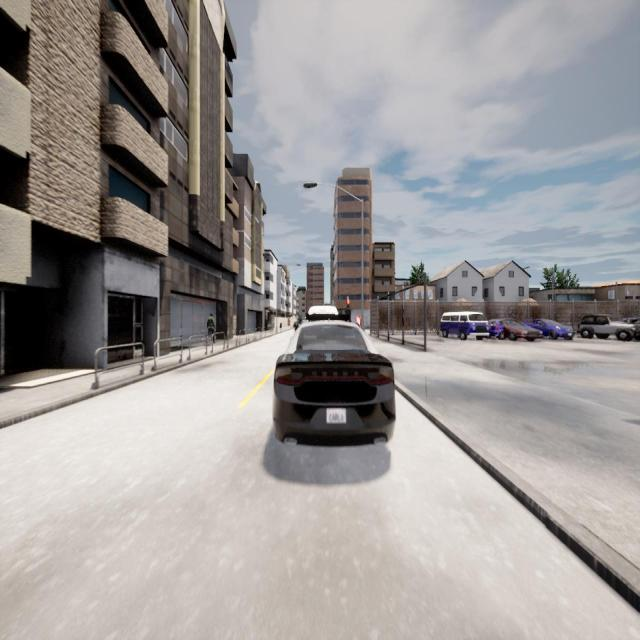Pedestrian: (206, 313, 215, 342)
Vehicle: (273, 320, 395, 444), (440, 312, 489, 340), (579, 314, 636, 338), (492, 319, 542, 341), (525, 319, 573, 340), (308, 305, 338, 315)
traffic_light: (347, 300, 350, 308)
